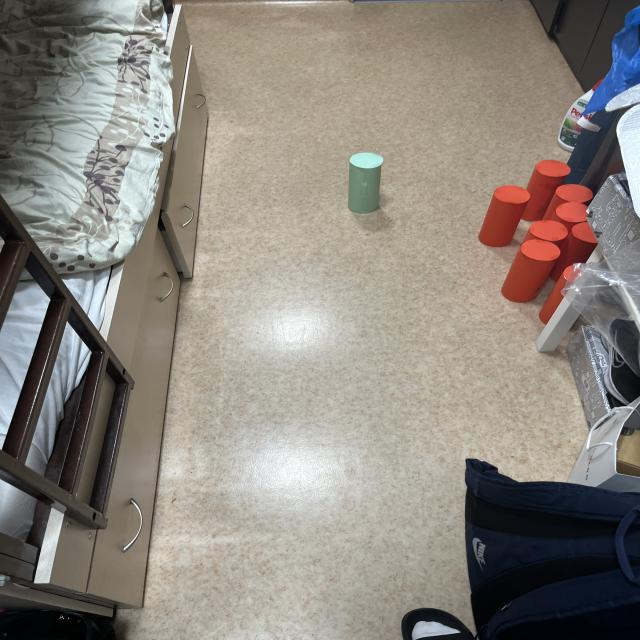meta: (348, 153, 383, 213)
